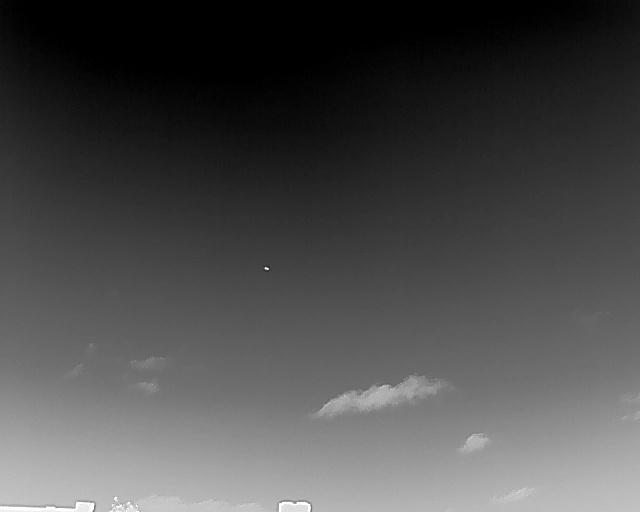fpv-drone: (262, 265, 270, 271)
